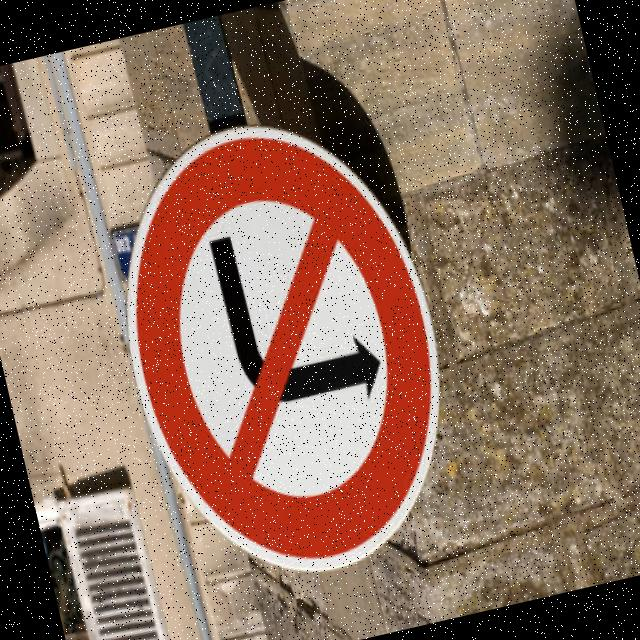do_not_turn_right: (85, 86, 486, 600)
